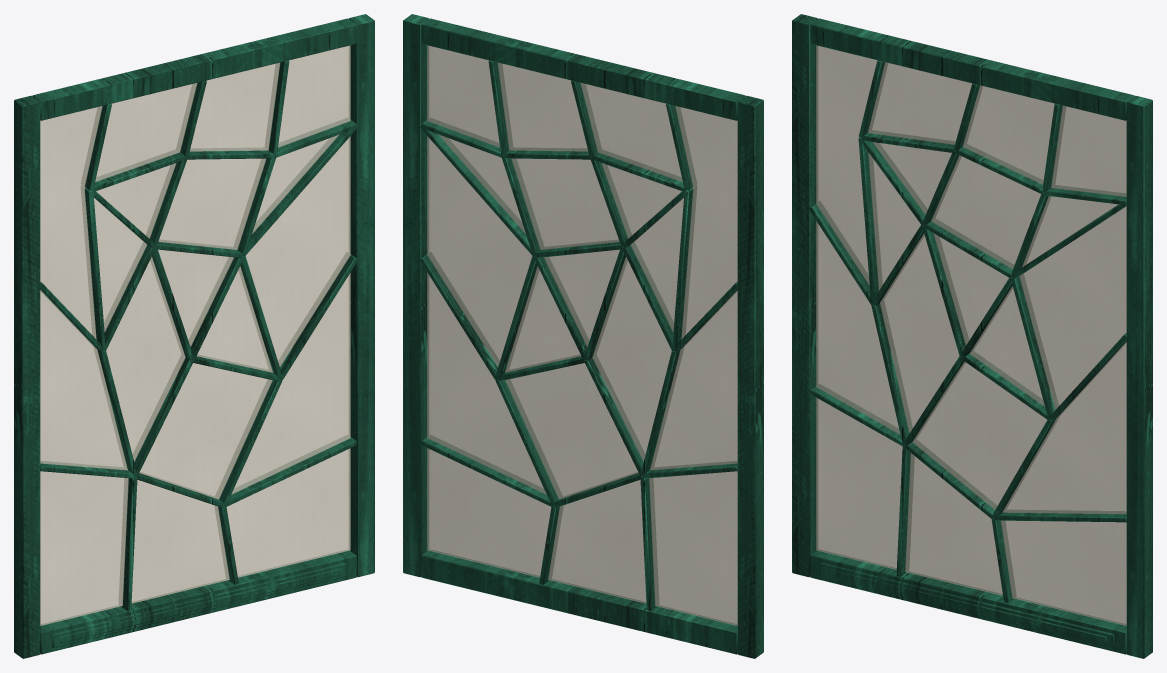
File: chuang-kanchuang-binglie.glb
3 renders of one model, left to right at view 1: azimuth 30°, elevation 25°; view 2: azimuth 150°, elevation 25°; view 3: azimuth 330°, elevation 25°, orthographic.
Parts seen in each view (by area): view 1: kanchuang_paper, kanchuang; view 2: kanchuang_paper, kanchuang; view 3: kanchuang_paper, kanchuang.
Part boxes in pixels (x1,y1,x2,y2): kanchuang_paper: (40,45,350,625); kanchuang: (14,14,374,658); kanchuang_paper: (427,45,737,625); kanchuang: (403,14,763,658); kanchuang_paper: (816,45,1126,625); kanchuang: (792,14,1152,658).
Bounding box in the file's own units: 0.9 × 1.35 × 0.049.
2 materials, 2 textured.
